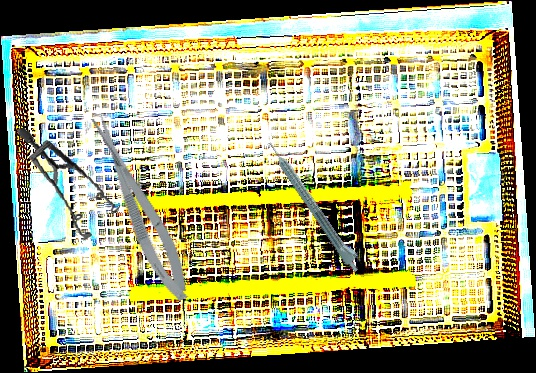Handpiece: (264, 135, 367, 275)
Micro Scissor: (83, 108, 199, 307)
Speculum: (17, 116, 124, 247)
